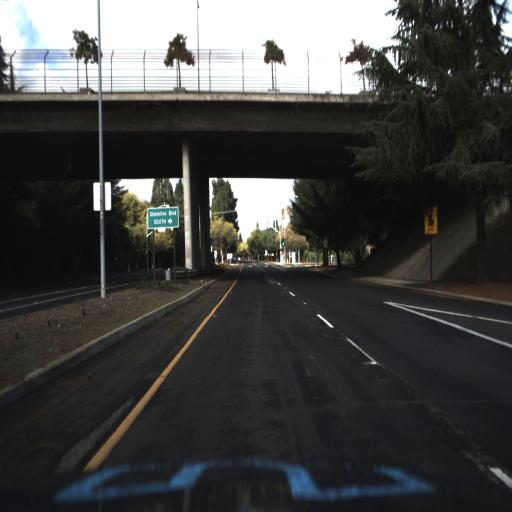trafficLight-Green: (282, 238, 285, 246), (256, 223, 259, 231)
